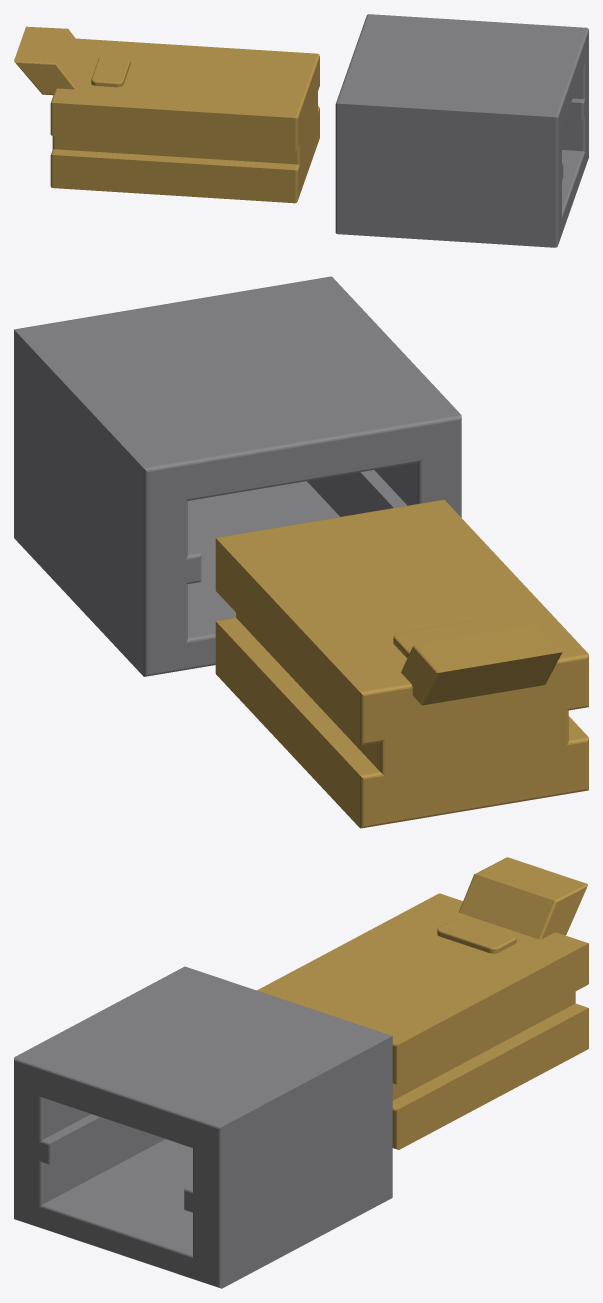
Rendered from study-headrest.glb.
The picture shows the model from 3 angles, top to bottom: view 1: azimuth 30°, elevation 25°; view 2: azimuth 150°, elevation 25°; view 3: azimuth 270°, elevation 25°; orthographic projection. The views are drawn at different scales.
Parts seen in each view (by area): view 1: housing, module, latch, tab; view 2: housing, module, latch, tab; view 3: housing, module, latch, tab.
Boxes of the visible parts, x1,y1,x2,y2 form: housing: [335, 14, 588, 247]; module: [50, 38, 319, 203]; latch: [14, 26, 88, 95]; tab: [91, 56, 130, 87]; housing: [14, 276, 461, 676]; module: [215, 499, 588, 828]; latch: [401, 624, 562, 705]; tab: [393, 620, 493, 657]; housing: [14, 966, 392, 1288]; module: [257, 893, 588, 1149]; latch: [459, 857, 587, 939]; tab: [437, 918, 516, 953].
Size of the model in its own units: 2.12 by 0.576 by 1.86.
